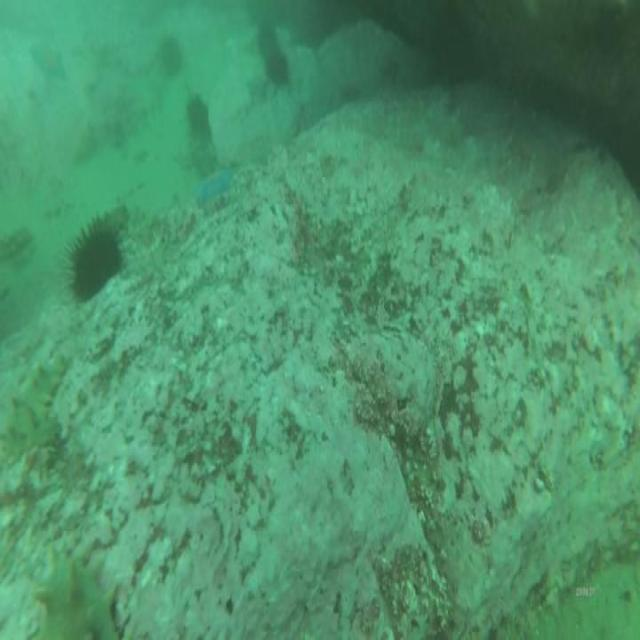echinus: (71, 231, 124, 302), (186, 96, 208, 128), (264, 56, 287, 86), (163, 36, 181, 74), (258, 21, 277, 54)
holothurian: (1, 352, 70, 468), (42, 556, 118, 640)
starfish: (192, 164, 233, 201)
